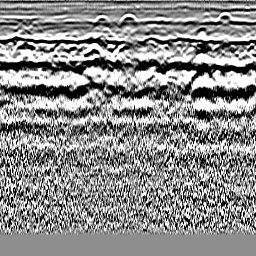cavity: (118, 12, 137, 27)
